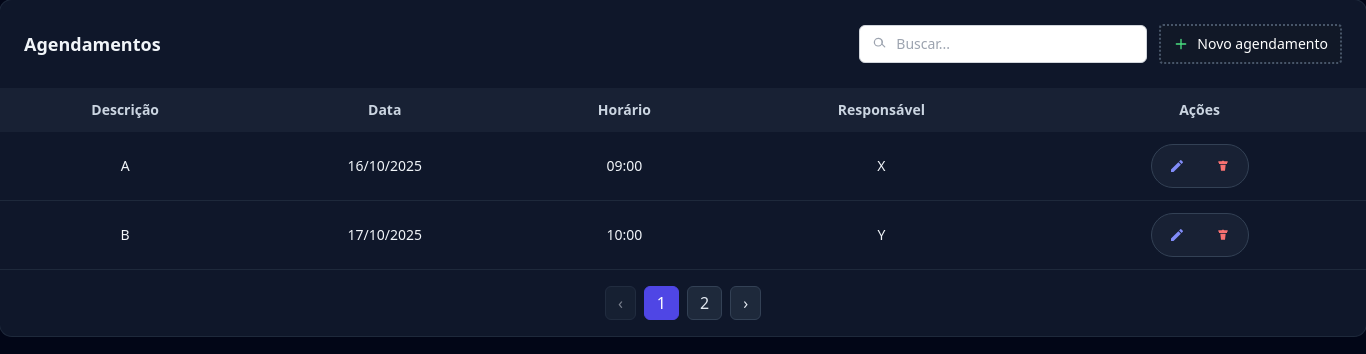
ScheduleTable › filters by description
In the field with placeholder "Buscar...": point(1003, 44) x1=859 y1=25 x2=1147 y2=63, type "ZZZ"
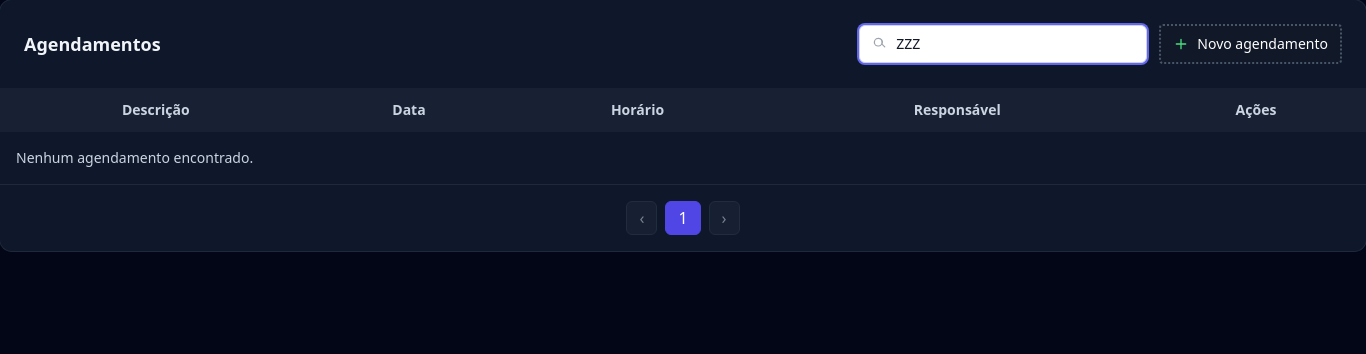
expect the text "Nenhum agendamento encontrado." is shown: met, box x1=0 y1=132 x2=1365 y2=184
